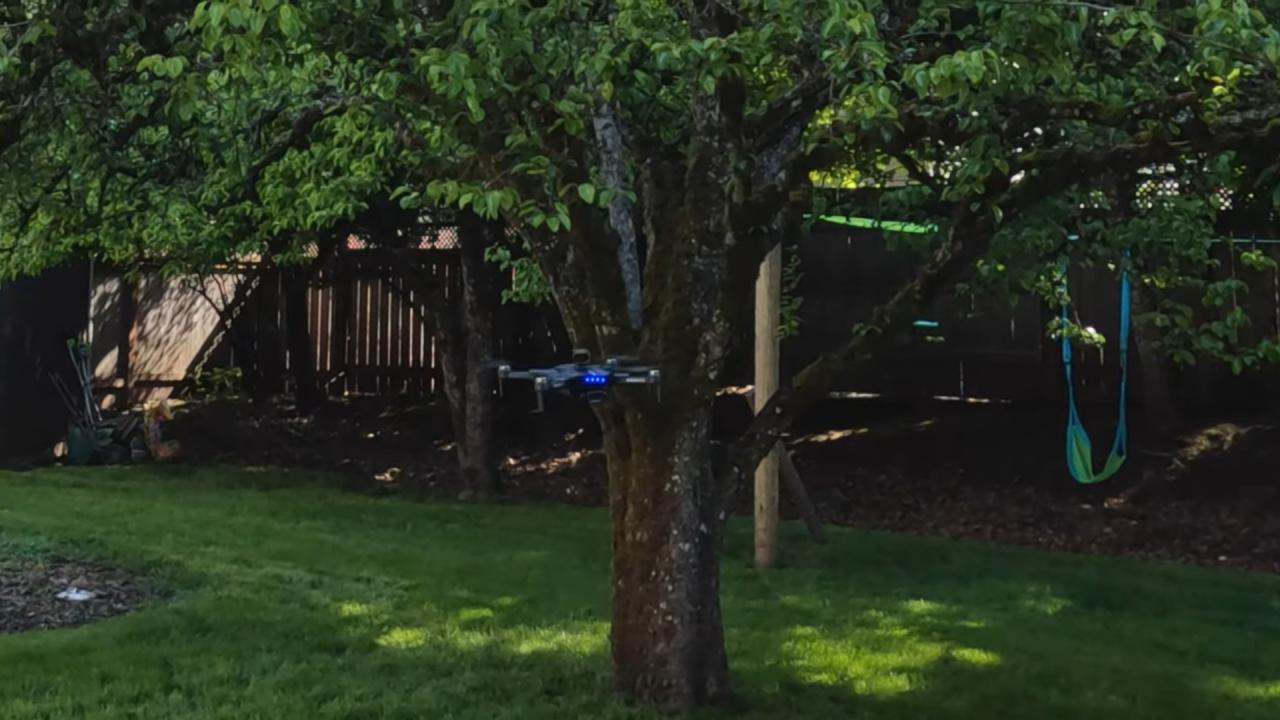Drone: (475, 342, 677, 420)
